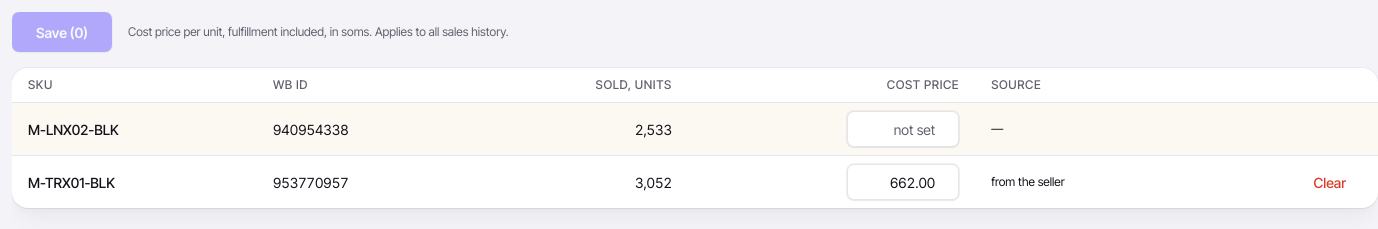
Scenario: which edits reach the server › blocks the save on a negative cost
Type "-5" into the number field with placeholder "not set".
click(903, 129); type("-5")  # box [847,111,959,147]
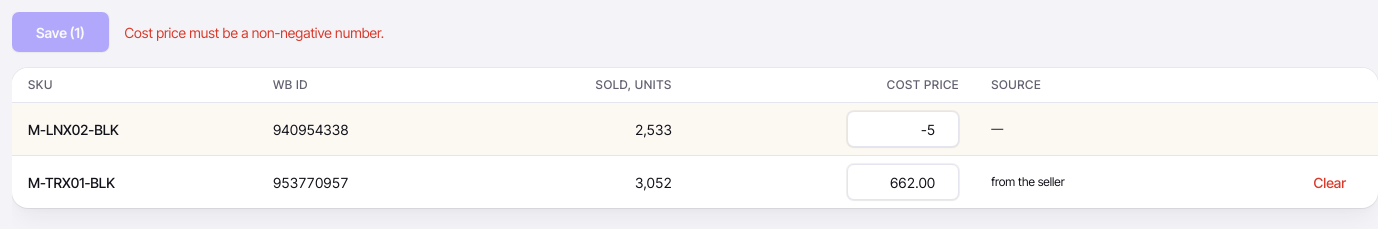
Expected: the button "Save (1)" is disabled, [12,12,109,52]
Now the text "non-negative number" is shown, box [125,24,384,40]
